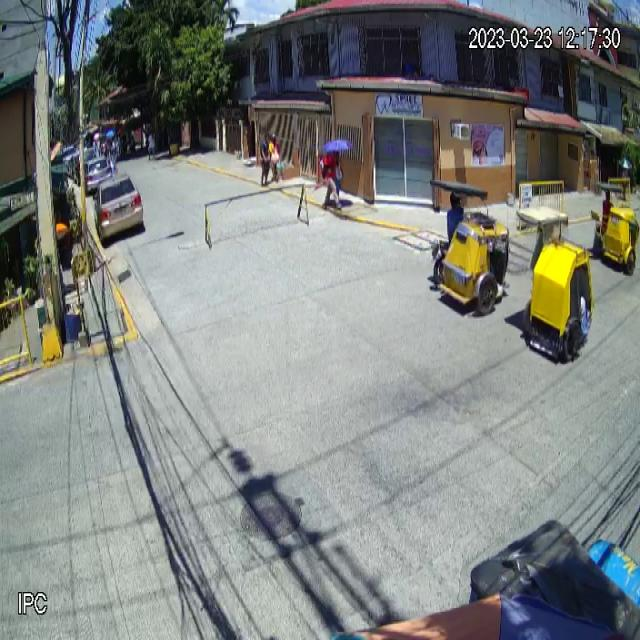Car: (94, 172, 143, 241)
Tricycle: (429, 179, 510, 316), (589, 182, 640, 276)
